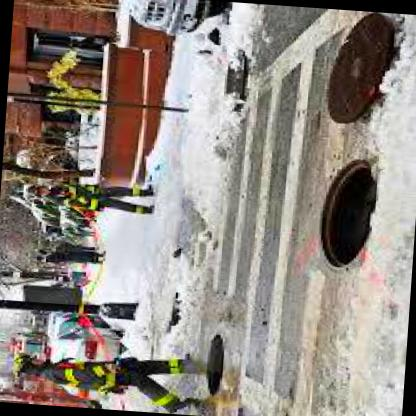manholes: (293, 7, 412, 293), (188, 326, 256, 404)
